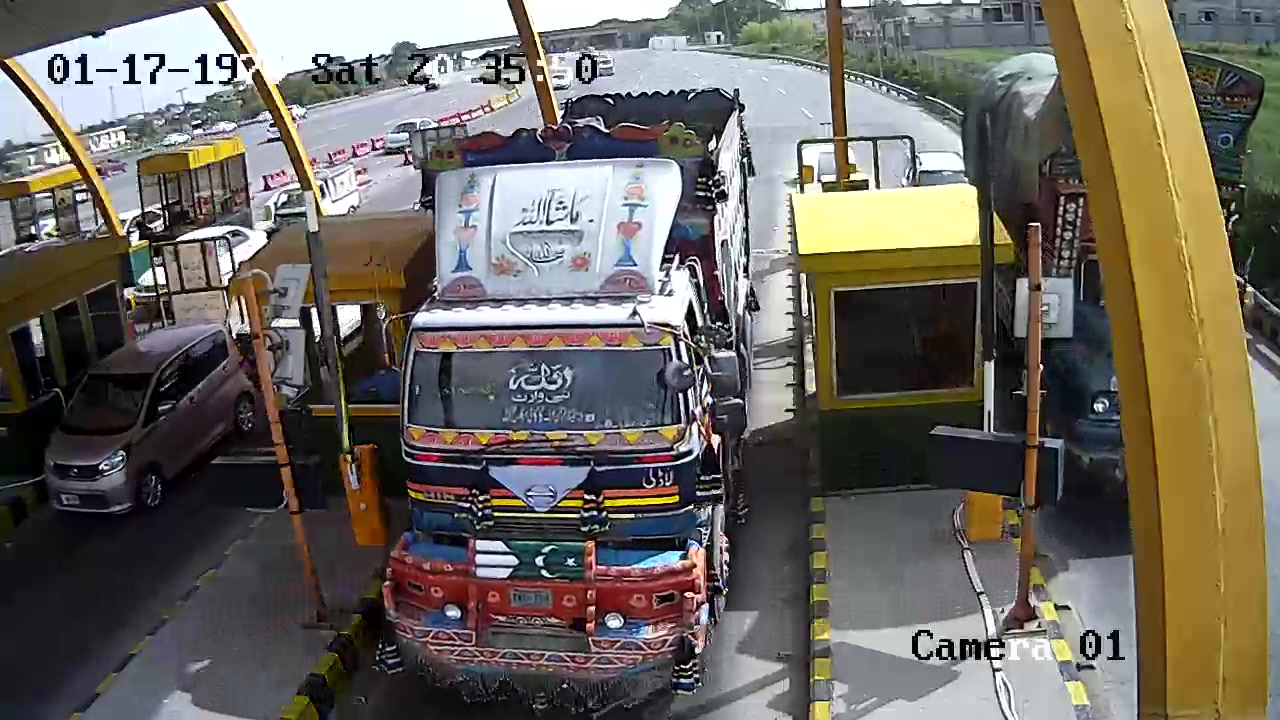F5: (377, 77, 762, 708)
